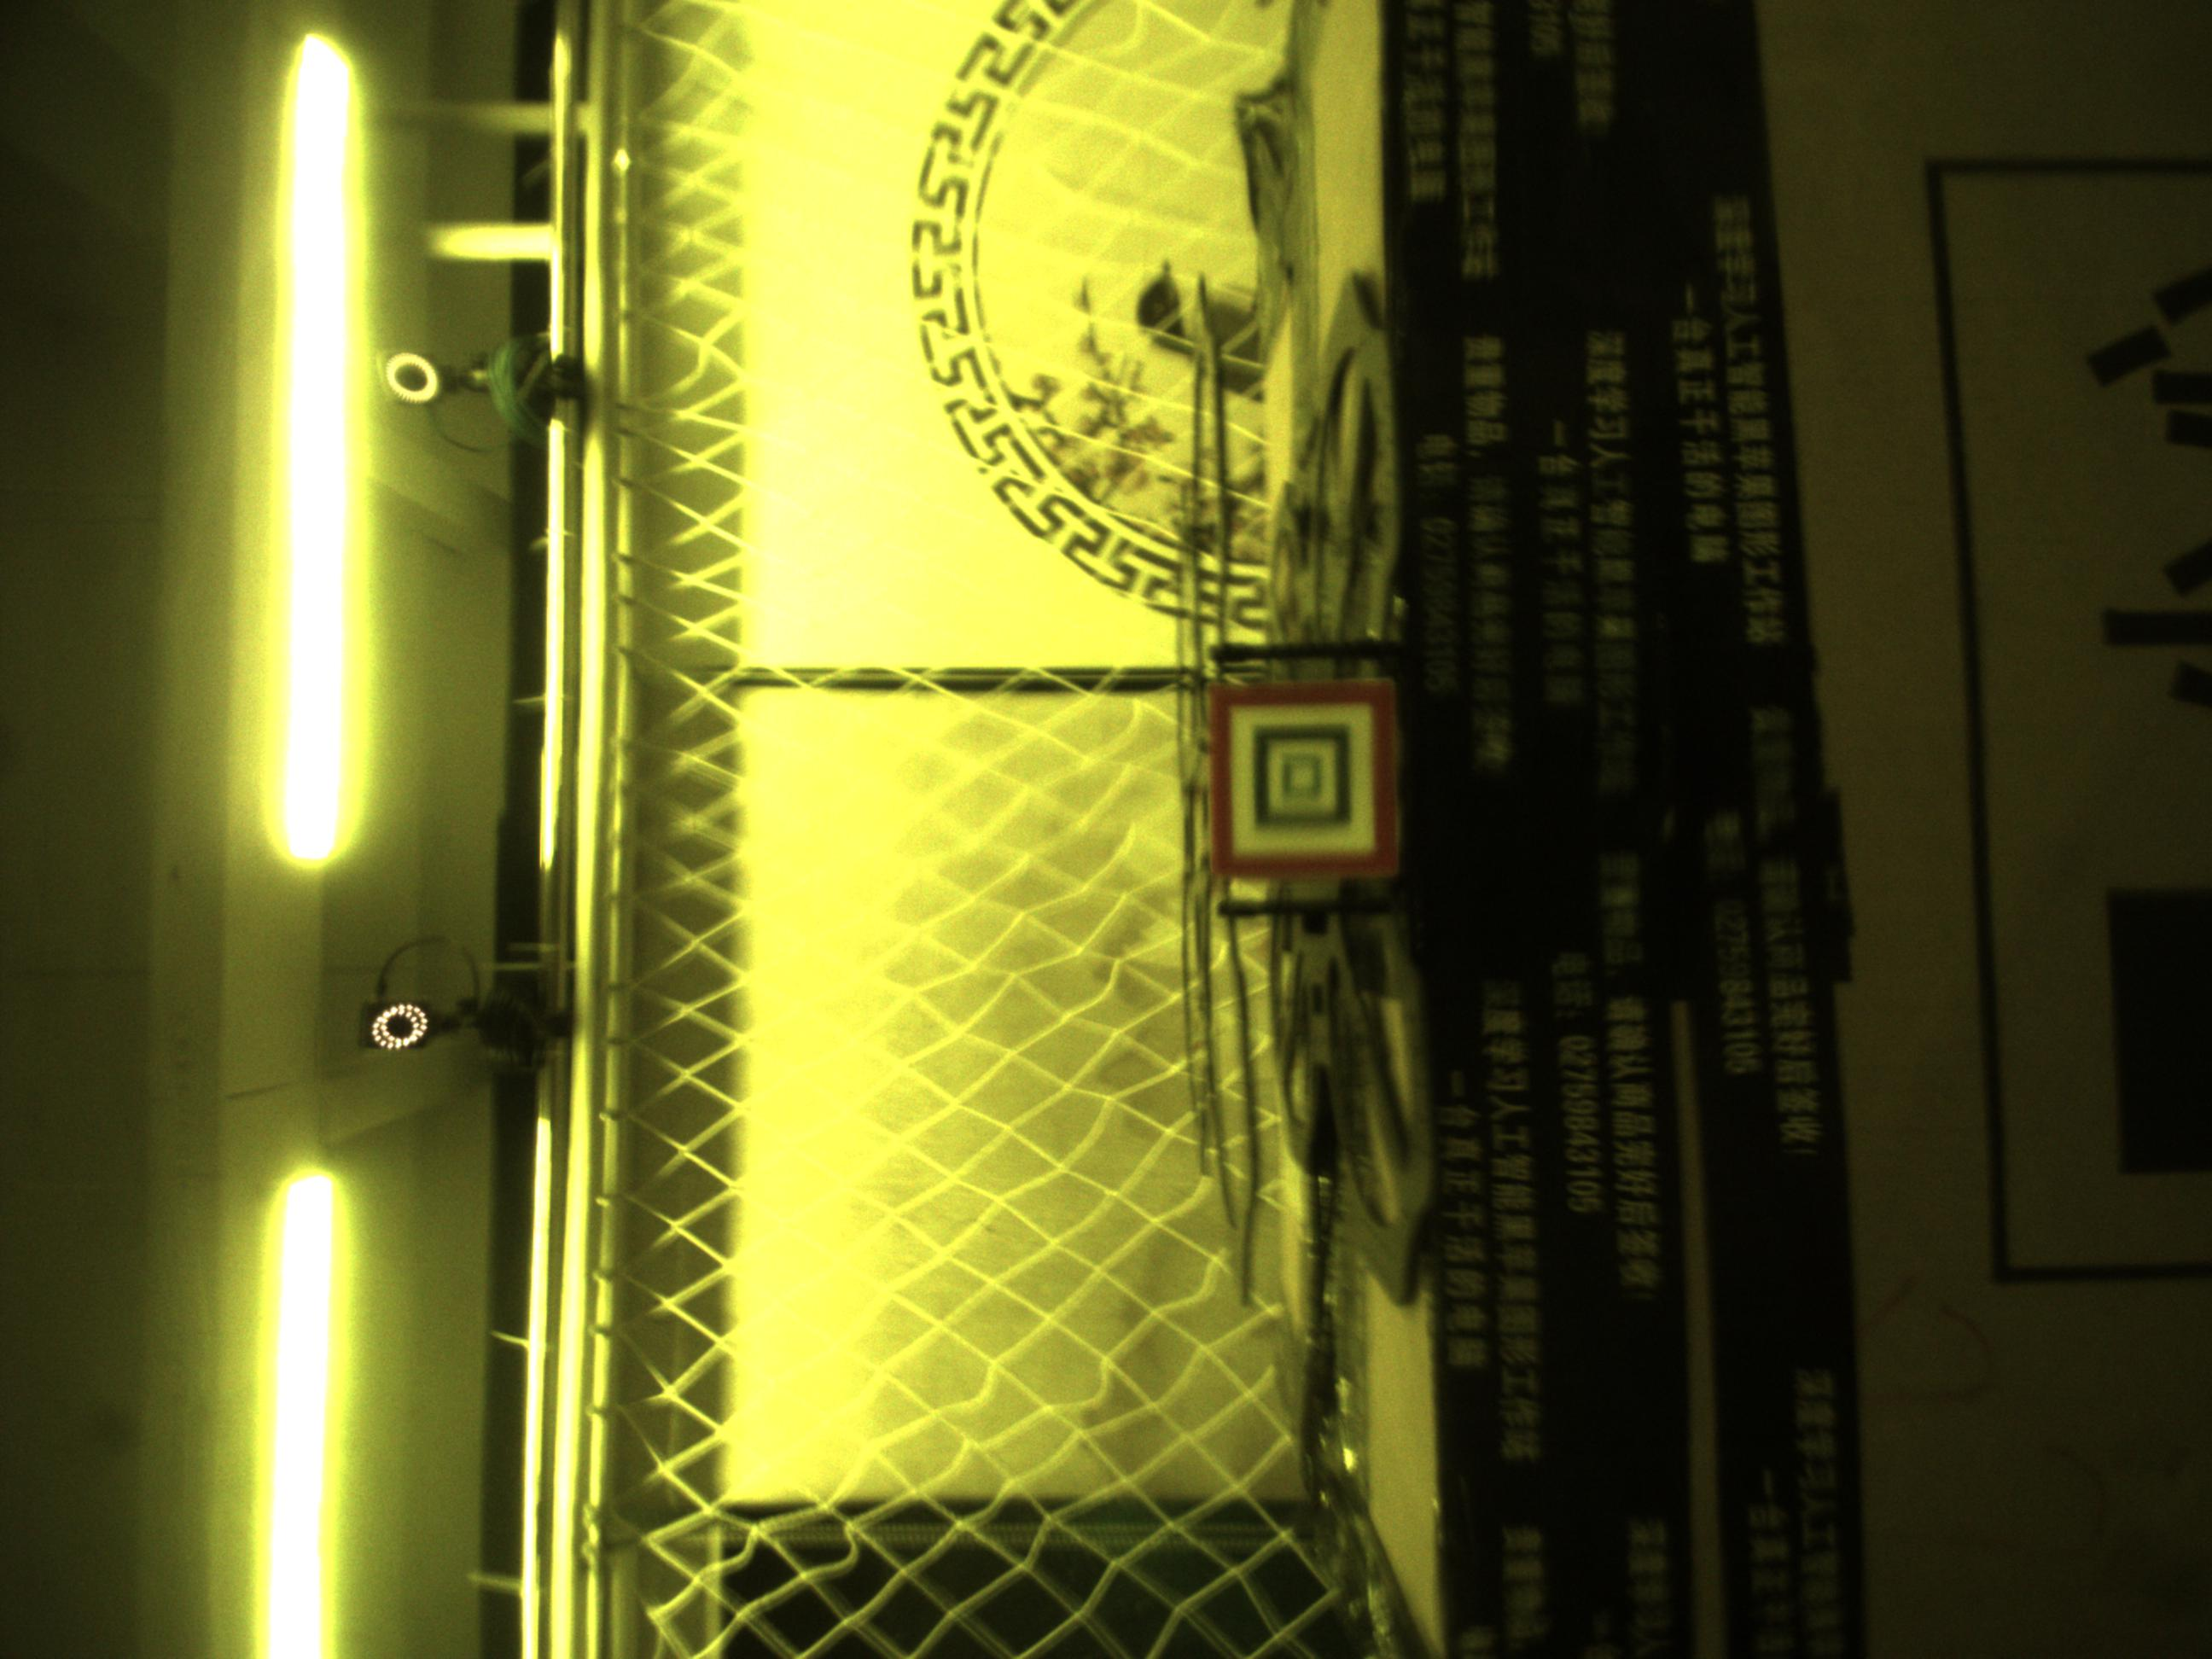outline: (1209, 680, 1402, 878)
